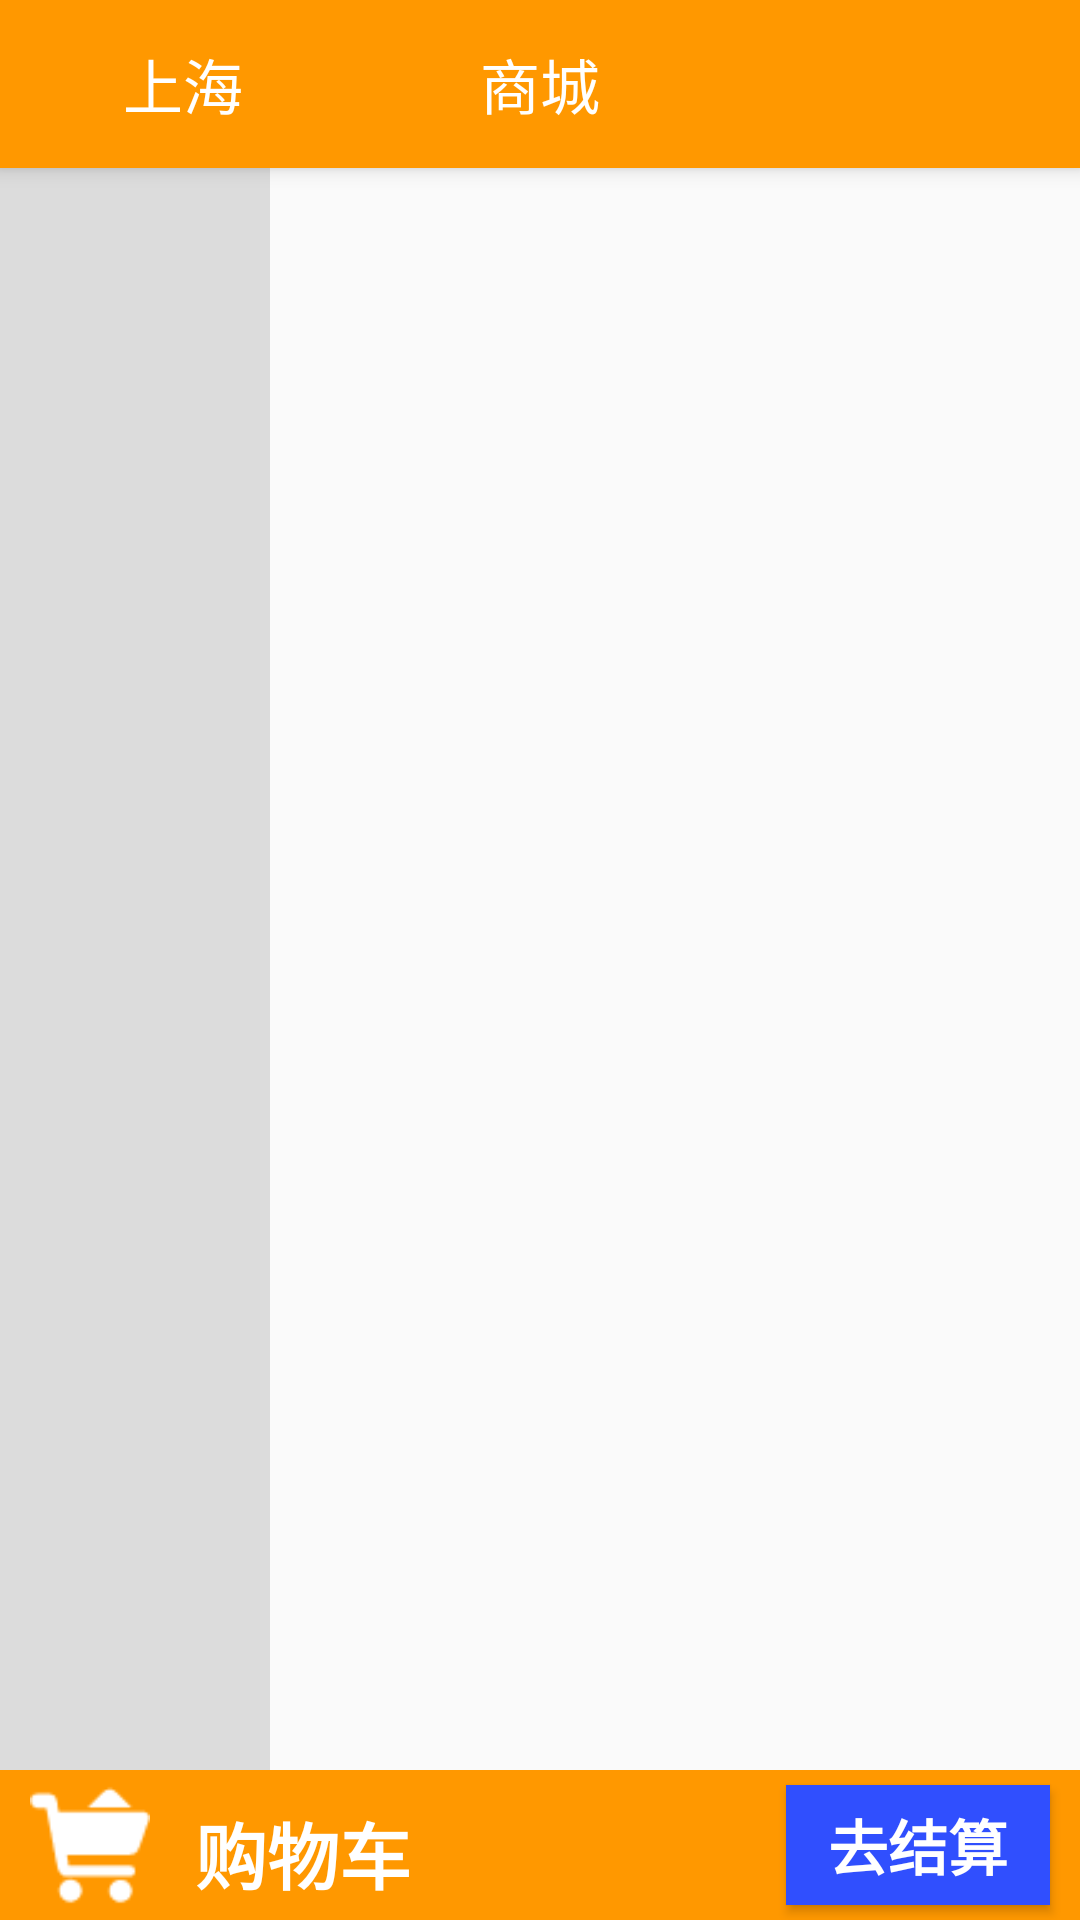

Named icons in this screenshot (1080px x 1920px) and their centers, [x,y]:
shopping cart: [90,1845]
